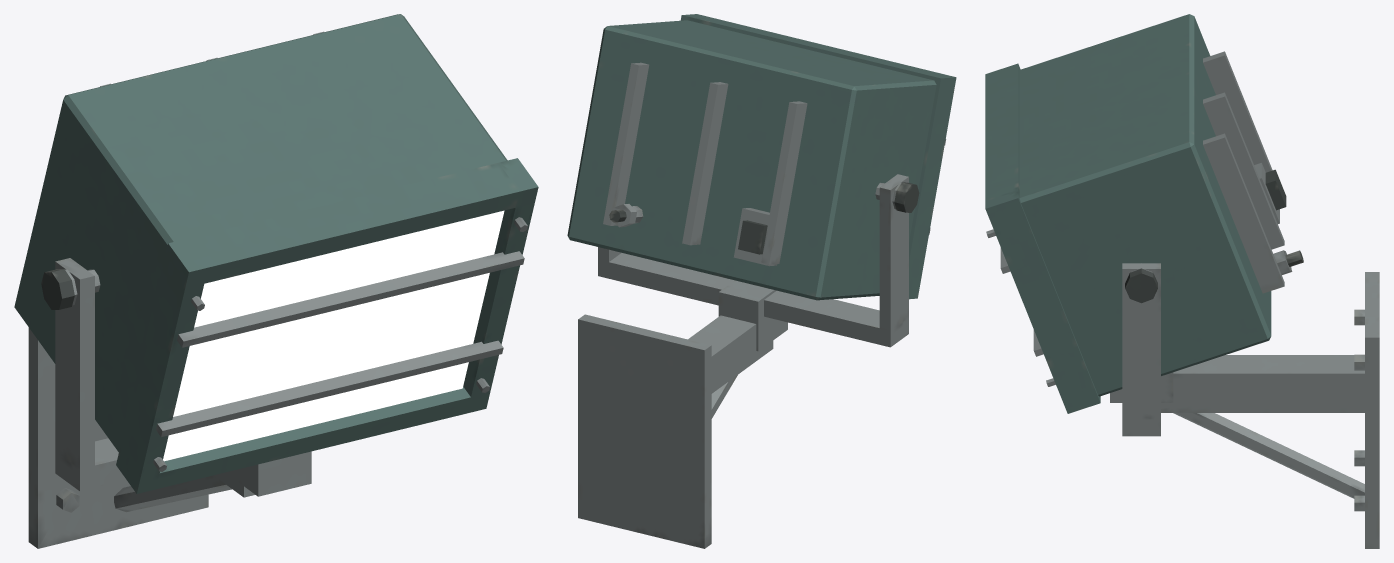
File: industry_work_light_mounted.glb
The picture shows the model from 3 angles, left to right: view 1: azimuth 30°, elevation 25°; view 2: azimuth 150°, elevation 25°; view 3: azimuth 270°, elevation 25°; orthographic projection. The views are drawn at different scales.
Parts seen in each view (by area): view 1: WorkLight; view 2: WorkLight; view 3: WorkLight.
Part boxes in pixels (x1=…): WorkLight: x1=14, y1=14, x2=538, y2=548; WorkLight: x1=567, y1=14, x2=956, y2=548; WorkLight: x1=985, y1=14, x2=1379, y2=548.
Bounding box in the file's own units: 0.4 × 0.4976 × 0.4058.
Materials: 2 (1 with a texture image).
